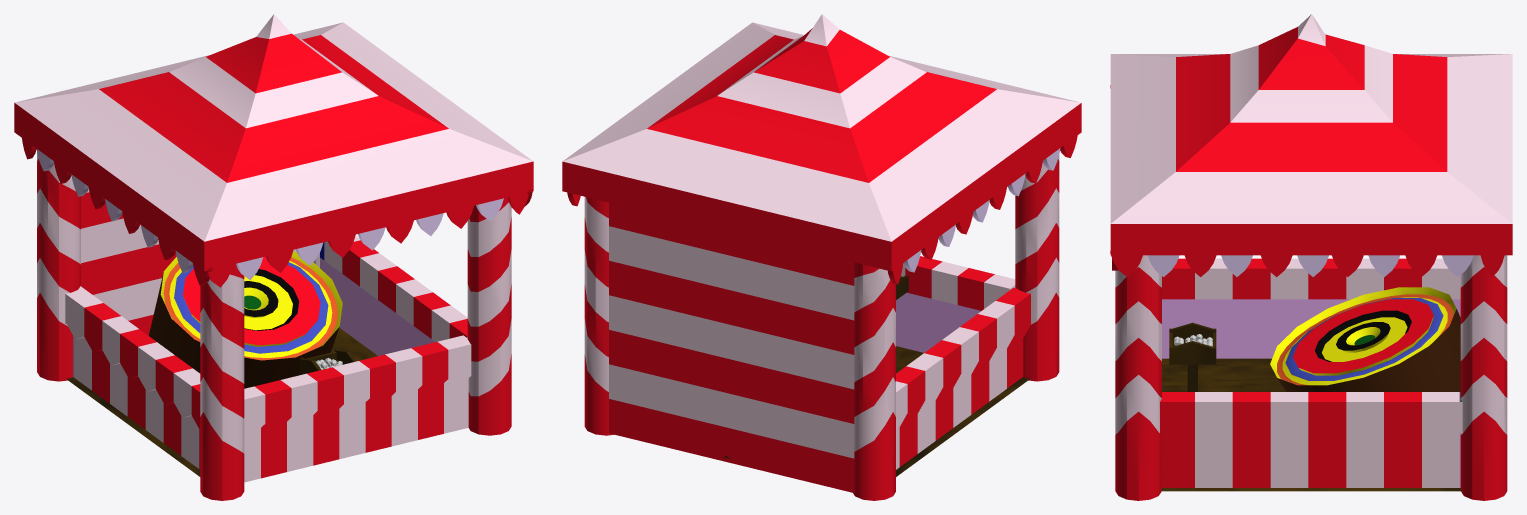
Rendered from BarracaAlvo.fbx.
3 views of the same model, side by side, from view 1: azimuth 30°, elevation 25°; view 2: azimuth 150°, elevation 25°; view 3: azimuth 270°, elevation 25° (orthographic). The views are drawn at different scales.
Parts seen in each view (by area): view 1: BarraquinhaDelMira, Alvo, Bandeirinhas, Bolas; view 2: BarraquinhaDelMira, Bandeirinhas; view 3: BarraquinhaDelMira, Alvo, Bandeirinhas, Bolas.
Part boxes in pixels (<box>): BarraquinhaDelMira: <box>14,14,533,500</box>; Alvo: <box>148,251,342,388</box>; Bandeirinhas: <box>22,138,533,287</box>; Bolas: <box>300,349,356,374</box>; BarraquinhaDelMira: <box>562,14,1081,500</box>; Bandeirinhas: <box>567,135,1077,284</box>; BarraquinhaDelMira: <box>1110,14,1512,500</box>; Alvo: <box>1270,287,1460,391</box>; Bandeirinhas: <box>1110,85,1504,277</box>; Bolas: <box>1169,322,1216,391</box>.
Bounding box in the file's own units: 592 × 662 × 592.
1 material, 1 textured.
